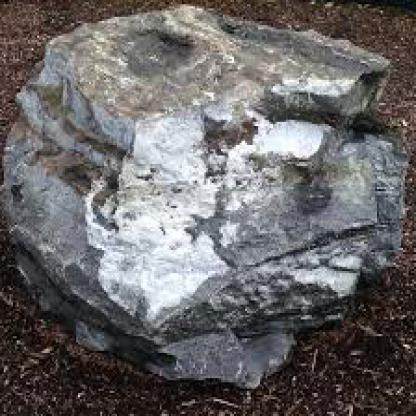Metamorphic_Marble: (2, 2, 408, 397)
